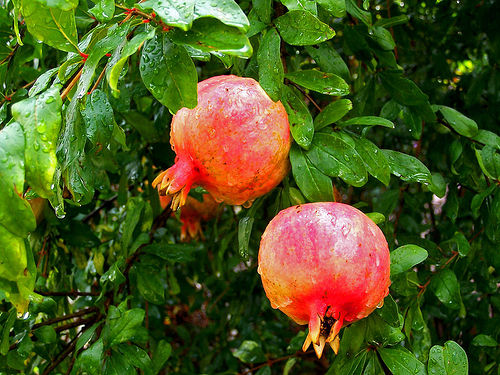pomogranate: (257, 202, 389, 358), (153, 73, 292, 213)
